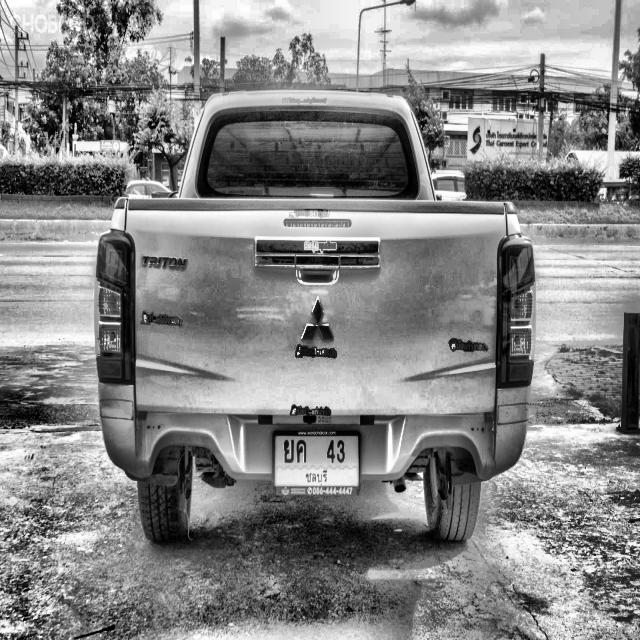license-plate: (272, 427, 362, 498)
